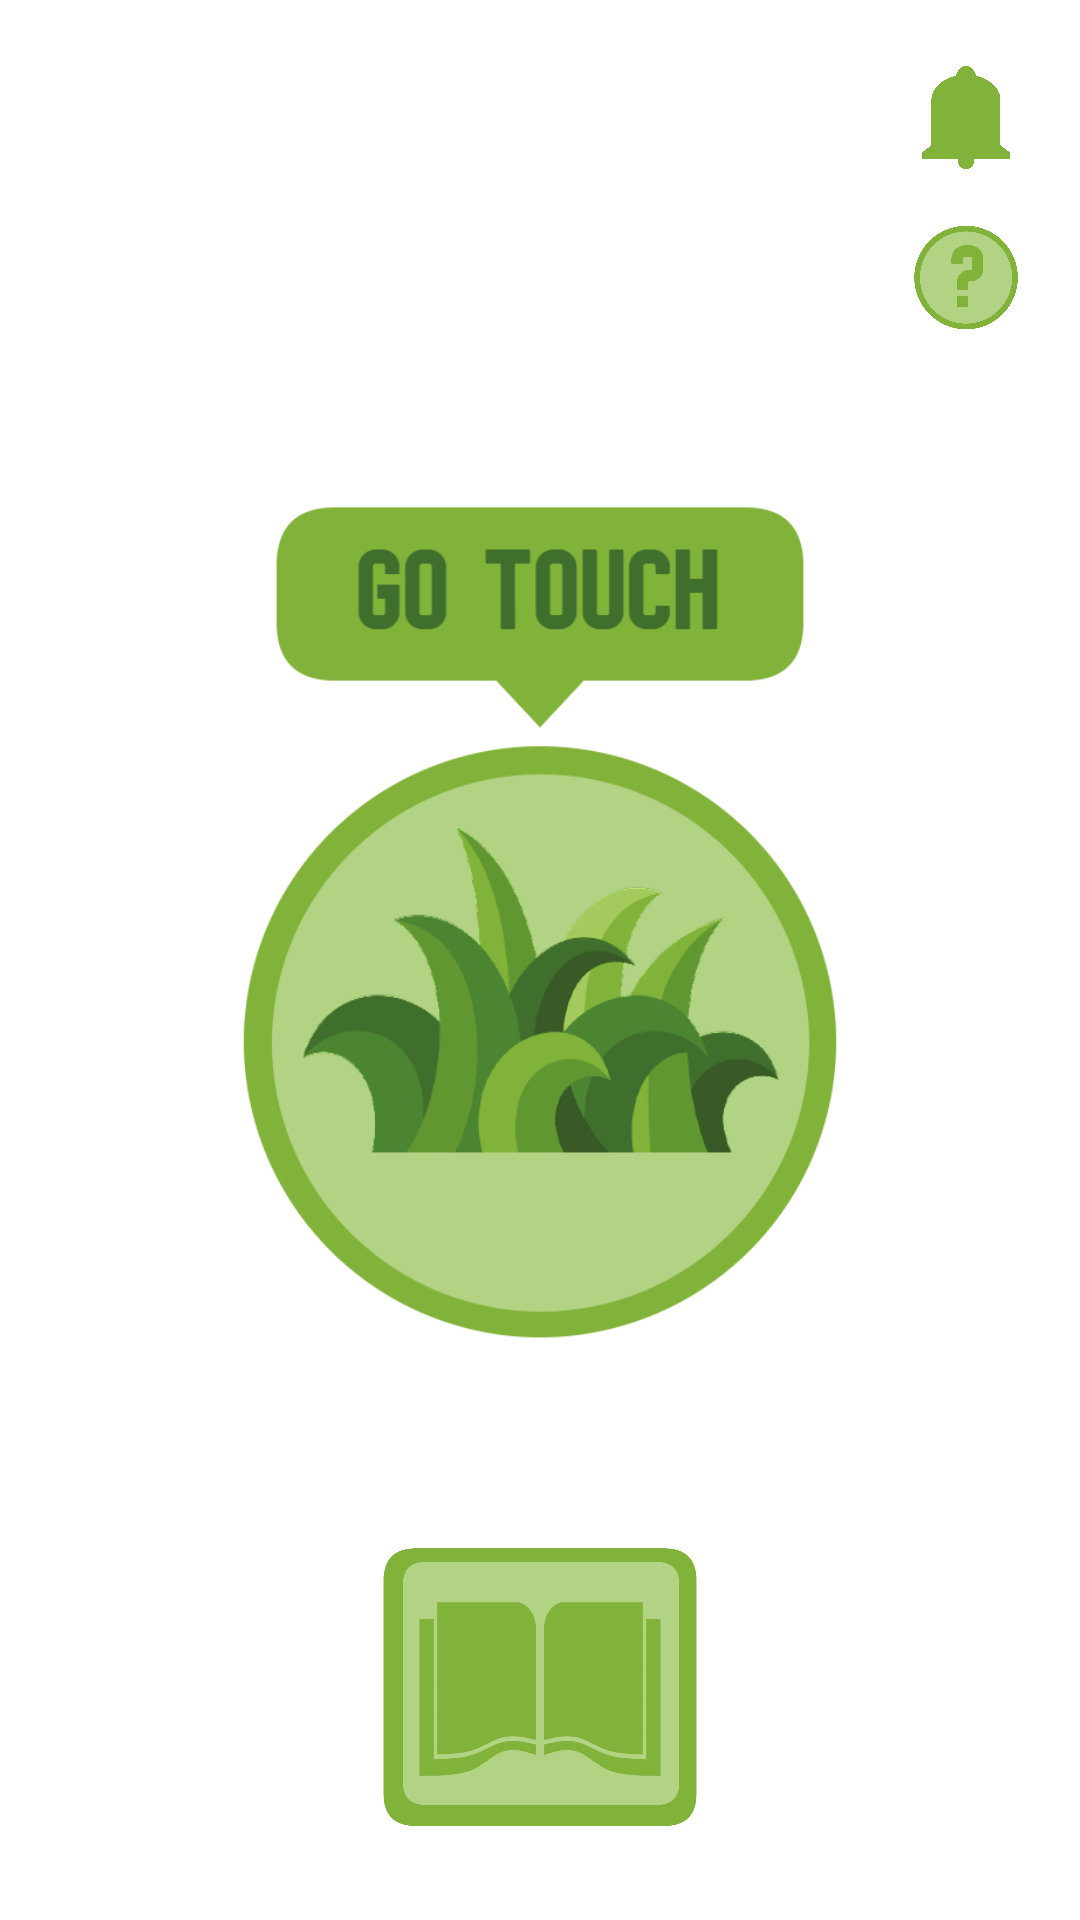

Screen size 1080w x 1920h. Icon name, then its box in pixels as (x1, y1, x2, y2):
Button to bring up help screen: (914, 226, 1018, 329)
Button to bring up past moments outside: (383, 1548, 697, 1826)
Button to set up reminders: (922, 66, 1010, 169)
